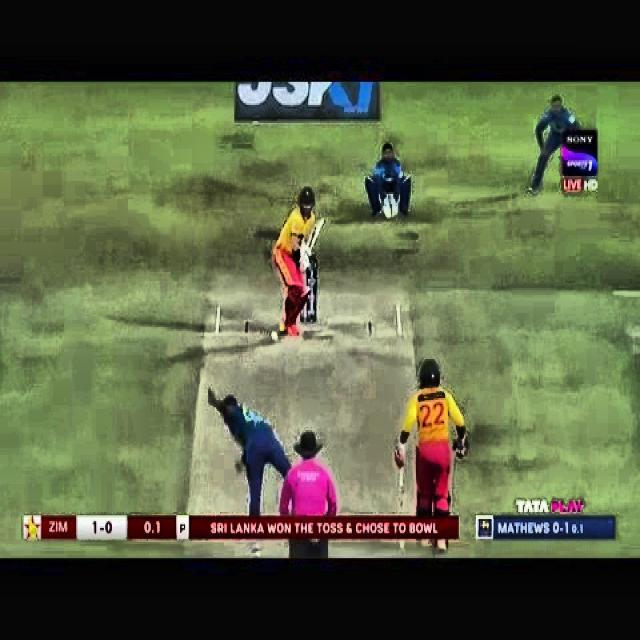Left-stump: (300, 312, 304, 322)
Middle-stump: (308, 303, 310, 321)
Right-stump: (314, 275, 316, 321)
